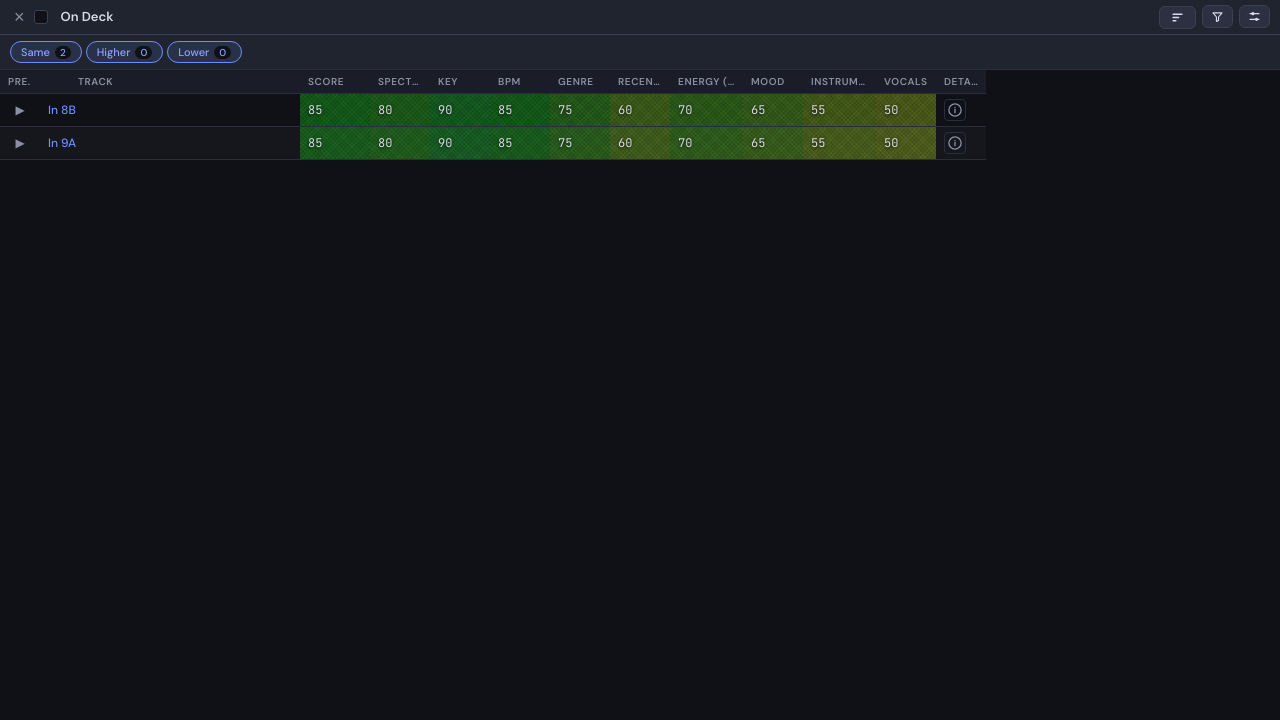
Test case: MatchesPanel › design-system chrome › filters matches by the candidate track key via the Camelot grid
Check: the button "In 8B" is shown, box [48, 102, 292, 118]
Check: the button "In 9A" is shown, box [48, 135, 292, 151]
Click the button named "Add filter".
click(1218, 16)  # box [1202, 5, 1233, 28]
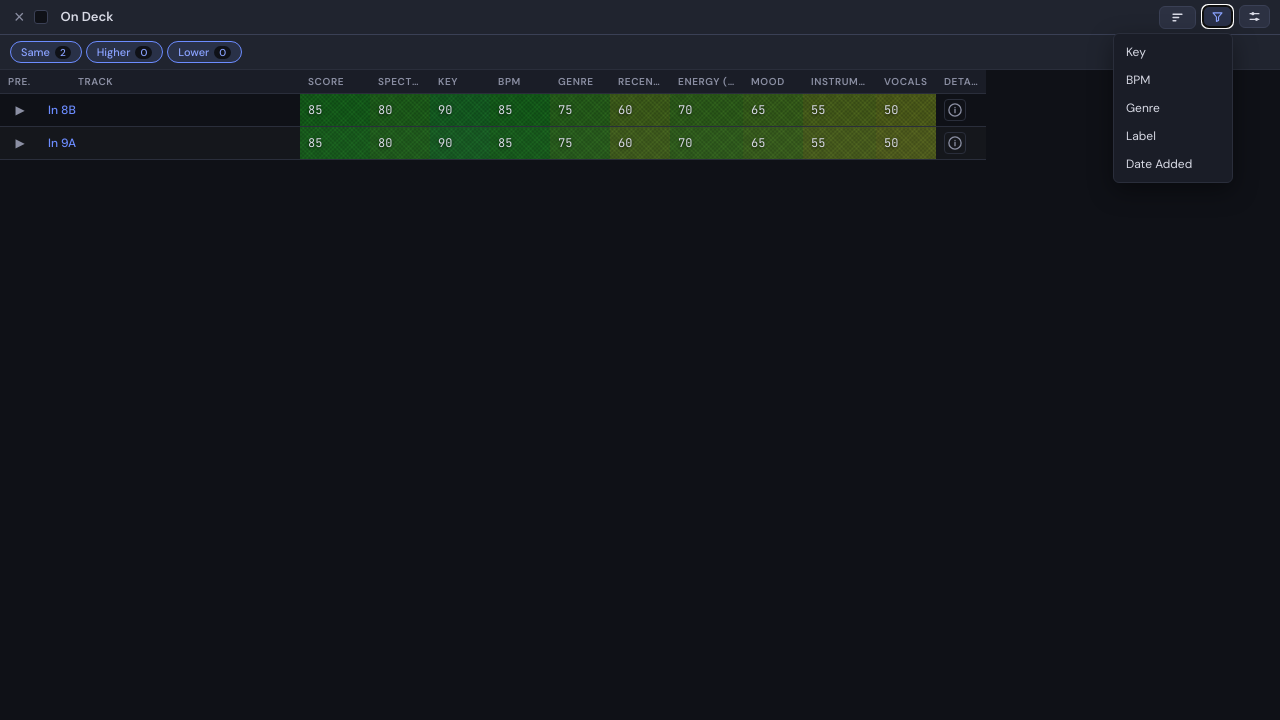
Click the menu item "Key".
click(1173, 52)  # box [1114, 38, 1232, 66]
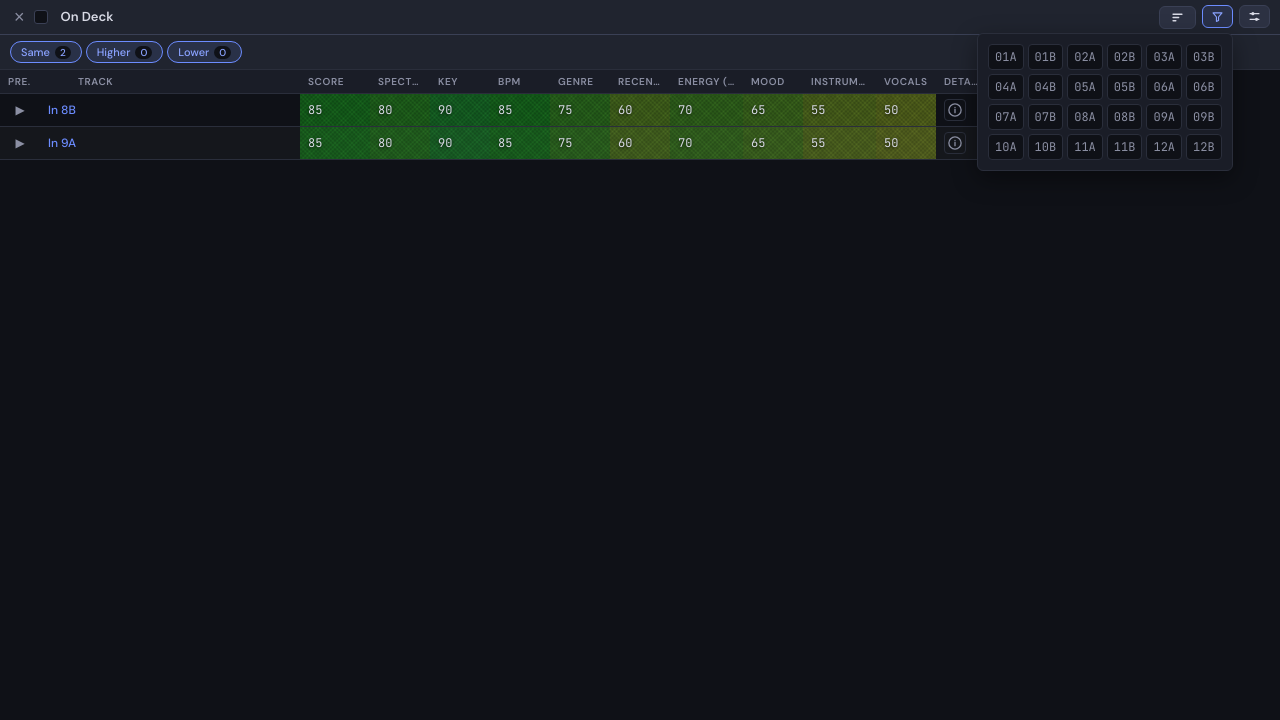
Click the button "08B".
click(1125, 117)  # box [1107, 104, 1142, 130]
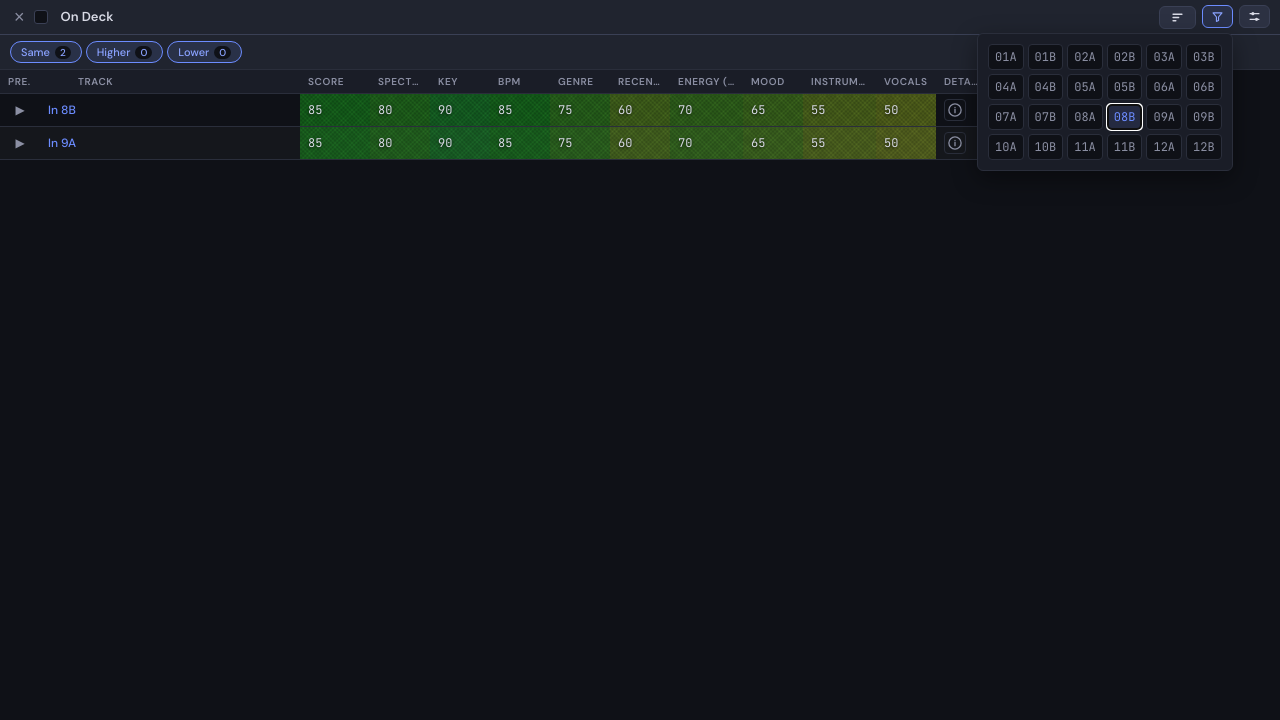
// The browse popover stages its draft and commits on dismissal.
Press Escape
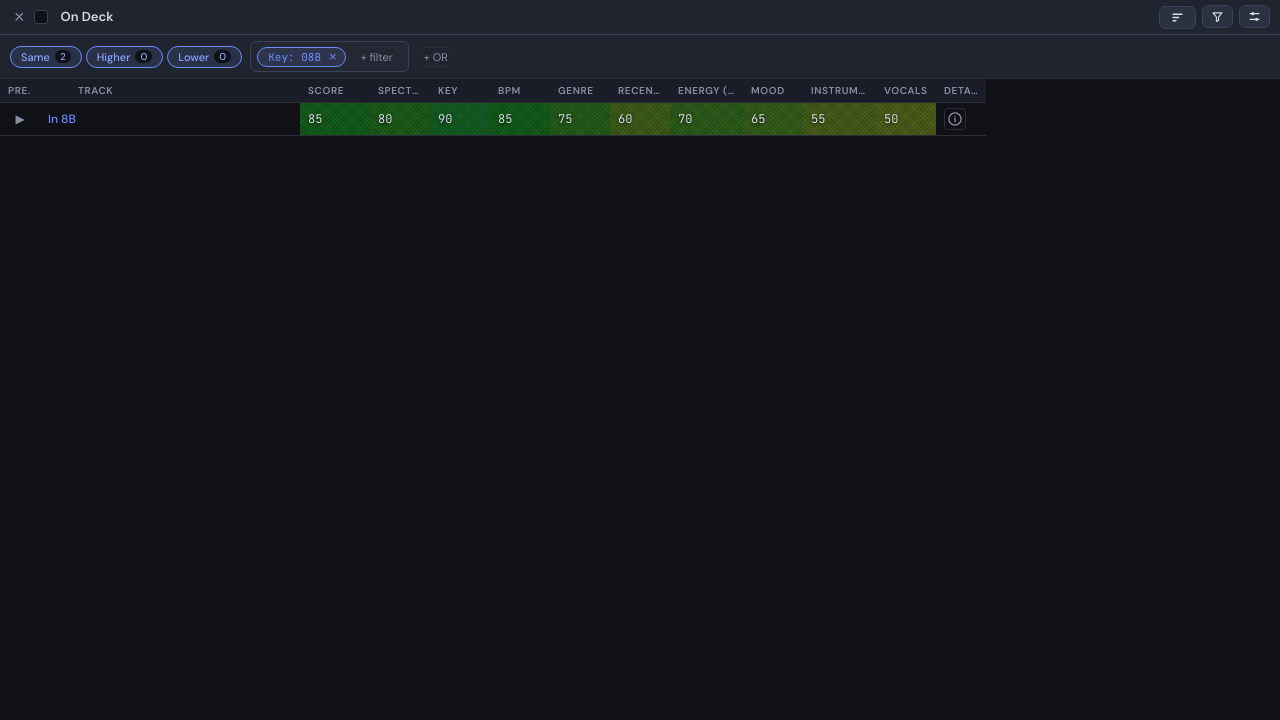
Check: the button "In 8B" is shown, box [48, 111, 292, 127]
Check: the button "In 9A" is gone
